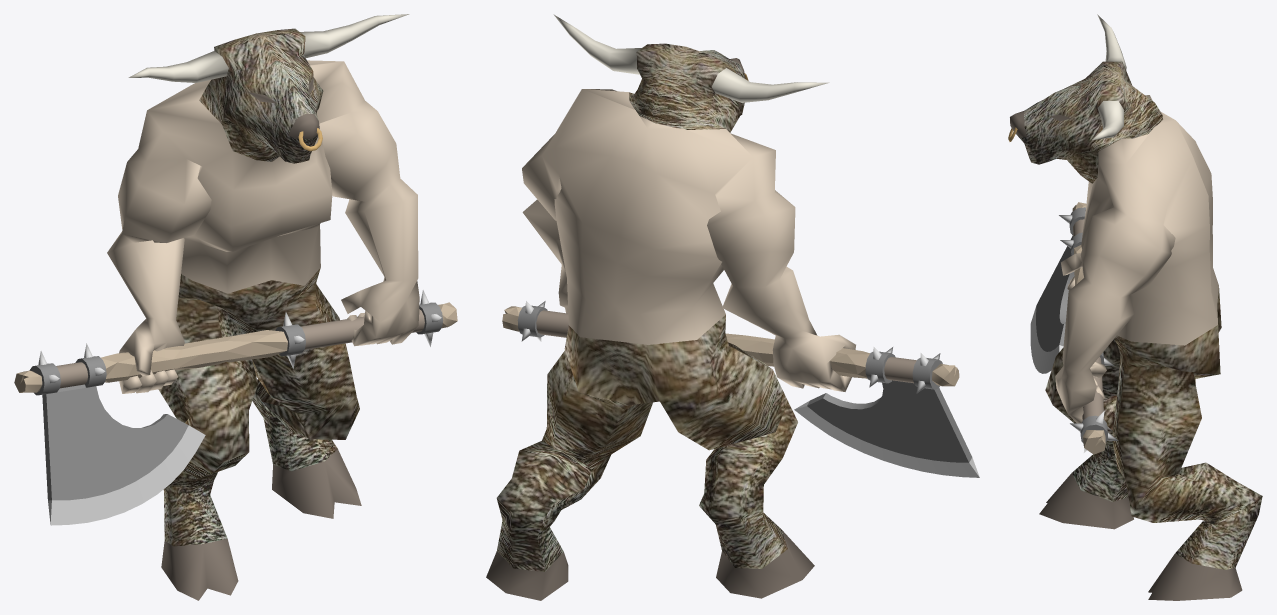
File: creature-minotaur.glb
3 renders of one model, left to right at view 1: azimuth 30°, elevation 25°; view 2: azimuth 150°, elevation 25°; view 3: azimuth 270°, elevation 25°, orthographic. The views are drawn at different scales.
Parts seen in each view (by area): view 1: creature-minotaur; view 2: creature-minotaur; view 3: creature-minotaur.
Boxes of the visible parts, left/top/right/bottom form: creature-minotaur: left=14, top=14, right=457, bottom=600; creature-minotaur: left=486, top=14, right=979, bottom=600; creature-minotaur: left=1008, top=14, right=1262, bottom=600.
Bounding box in the file's own units: 1.41 × 1.6 × 0.7691.
10 materials, 1 textured.
